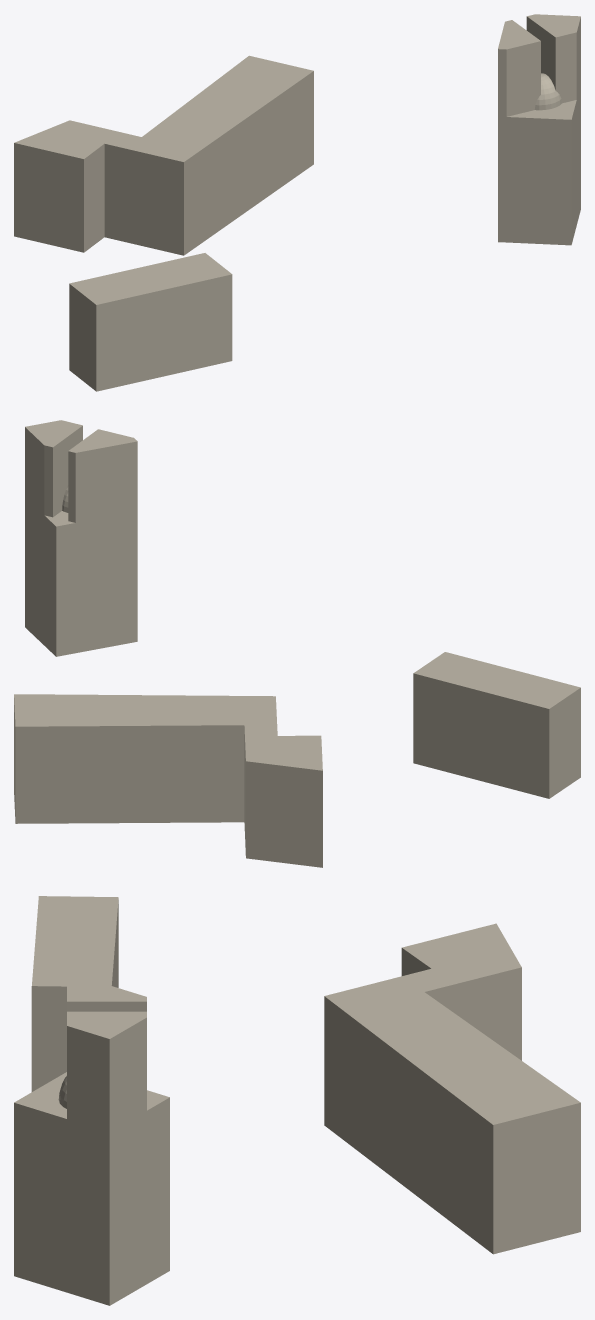
Rendered from senglea_59_32_far.glb.
3 renders of one model, top to bottom at view 1: azimuth 30°, elevation 25°; view 2: azimuth 150°, elevation 25°; view 3: azimuth 270°, elevation 25°, orthographic. The views are drawn at different scales.
Parts seen in each view (by area): view 1: geometry_0; view 2: geometry_0; view 3: geometry_0.
Part boxes in pixels (<box>): geometry_0: <box>14,14,580,391</box>; geometry_0: <box>14,420,580,867</box>; geometry_0: <box>14,896,580,1305</box>.
Bounding box in the file's own units: 71.24 × 30.98 × 49.6.
